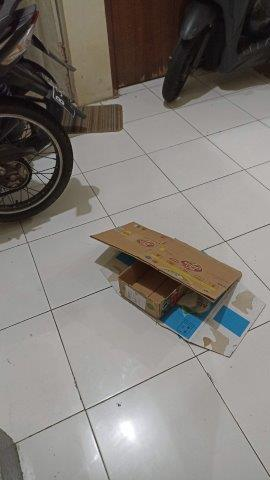kardus: (96, 223, 263, 352)
